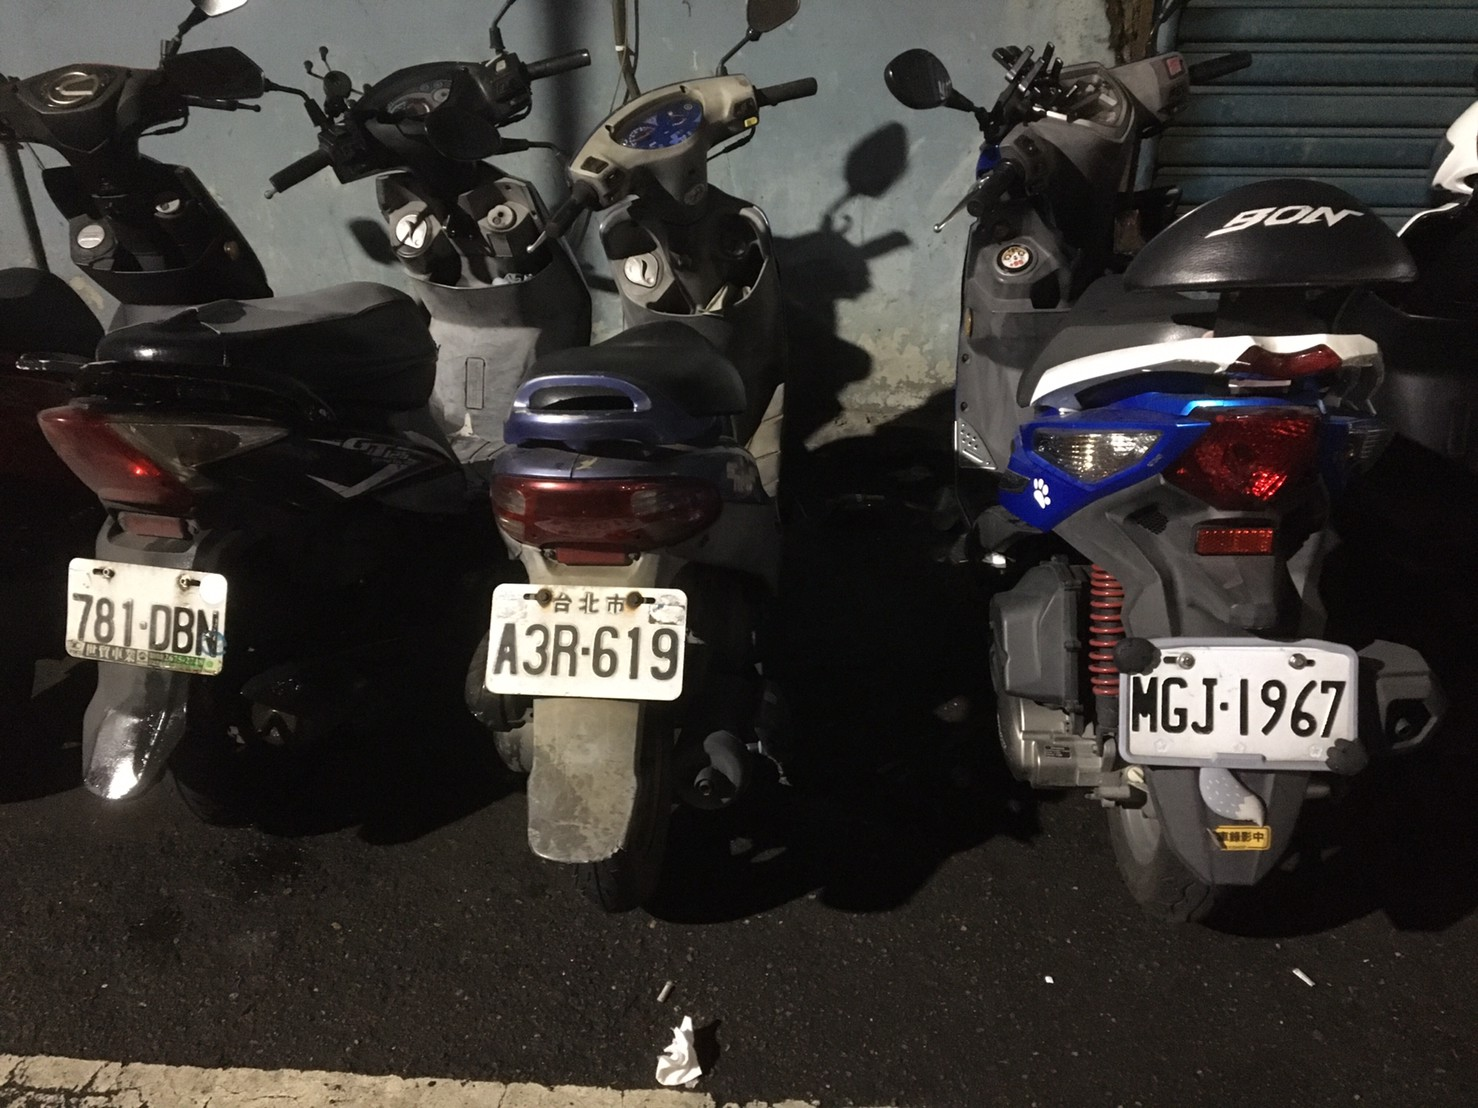LP: (1120, 634, 1359, 776), (490, 577, 684, 700), (67, 557, 224, 677)
